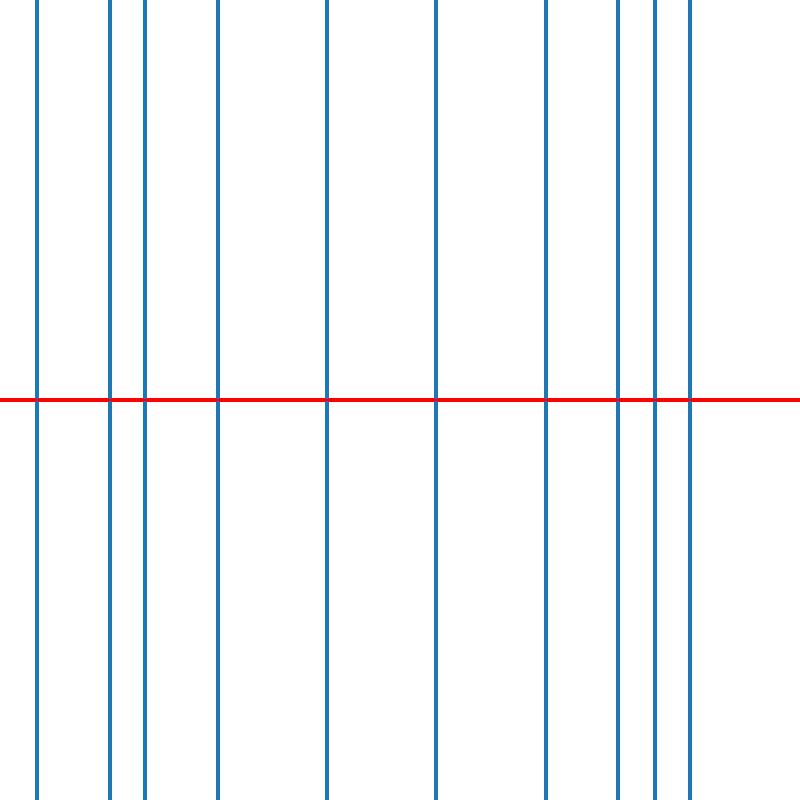root: (141, 396, 149, 404), (32, 396, 40, 404), (650, 396, 658, 404), (541, 396, 549, 404), (432, 396, 440, 404), (214, 396, 221, 404), (687, 396, 694, 404), (323, 396, 330, 404), (614, 396, 621, 404), (105, 396, 112, 404)
